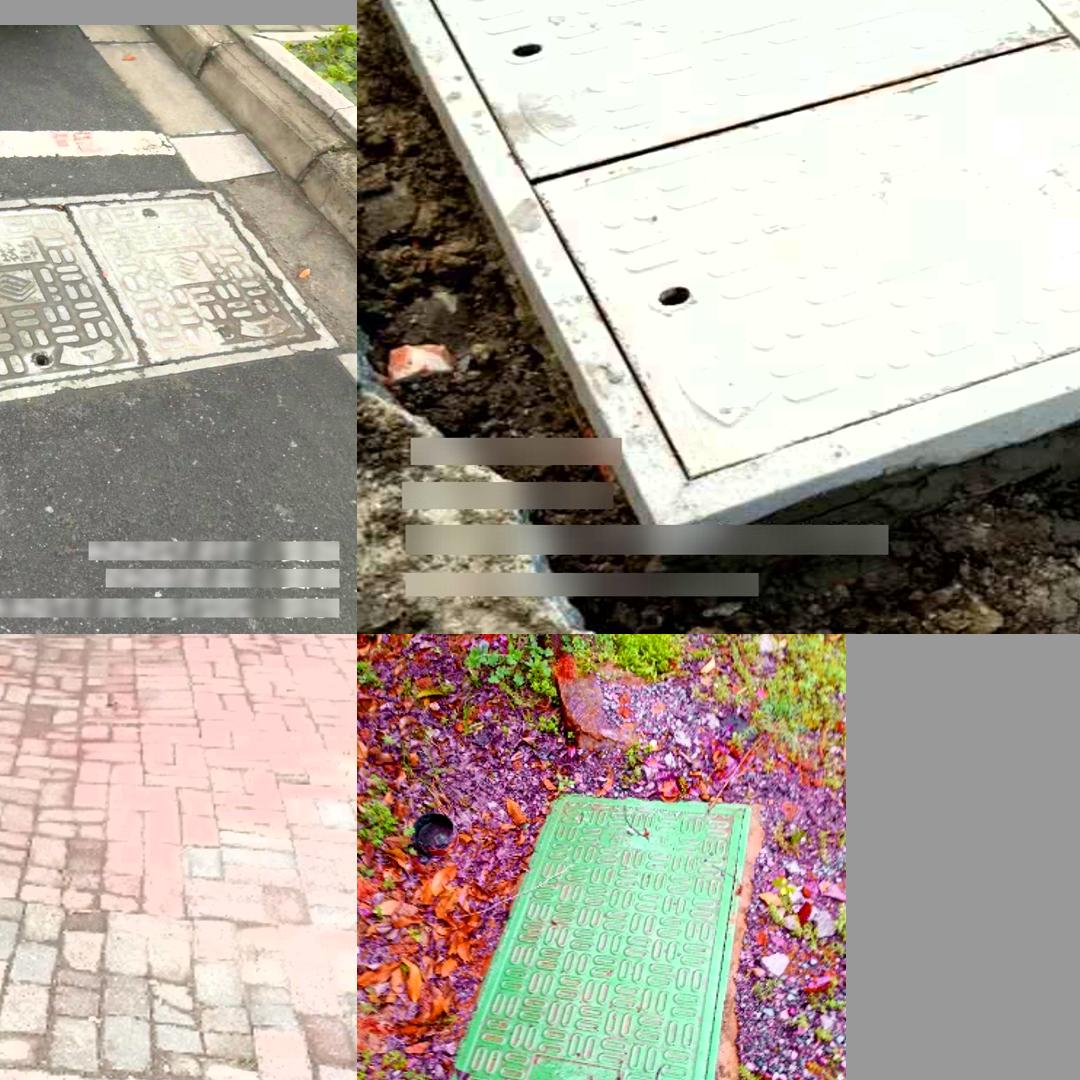good: (386, 0, 1080, 524), (429, 792, 752, 1080), (0, 189, 343, 410)
